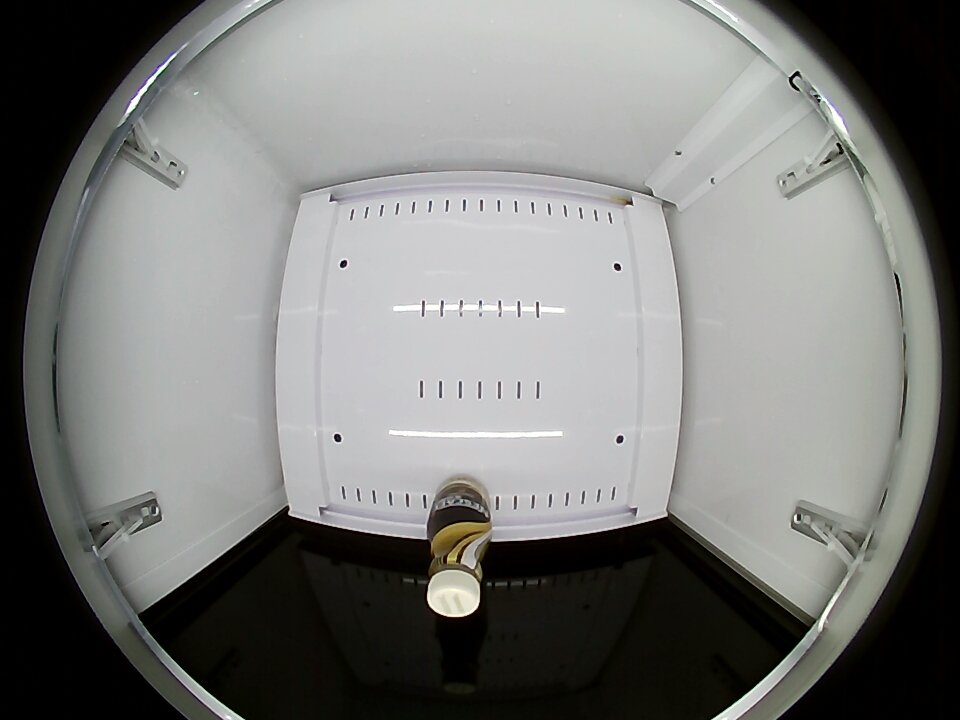kafei: (424, 512, 495, 618)
